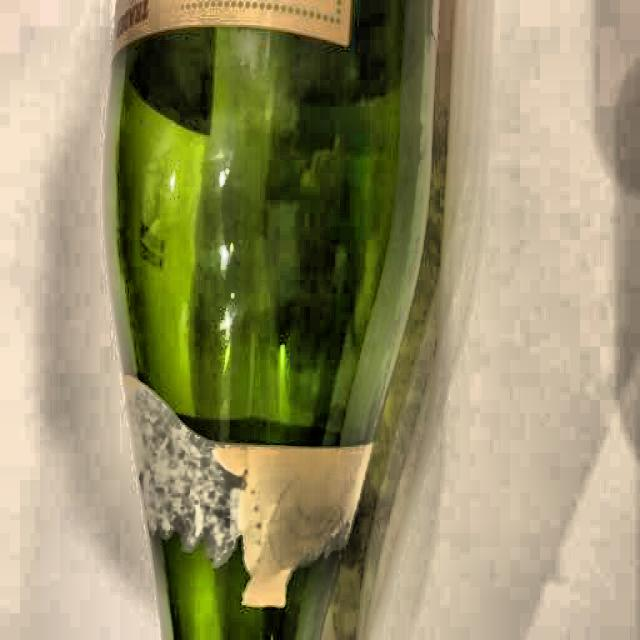glass: (101, 0, 437, 637)
